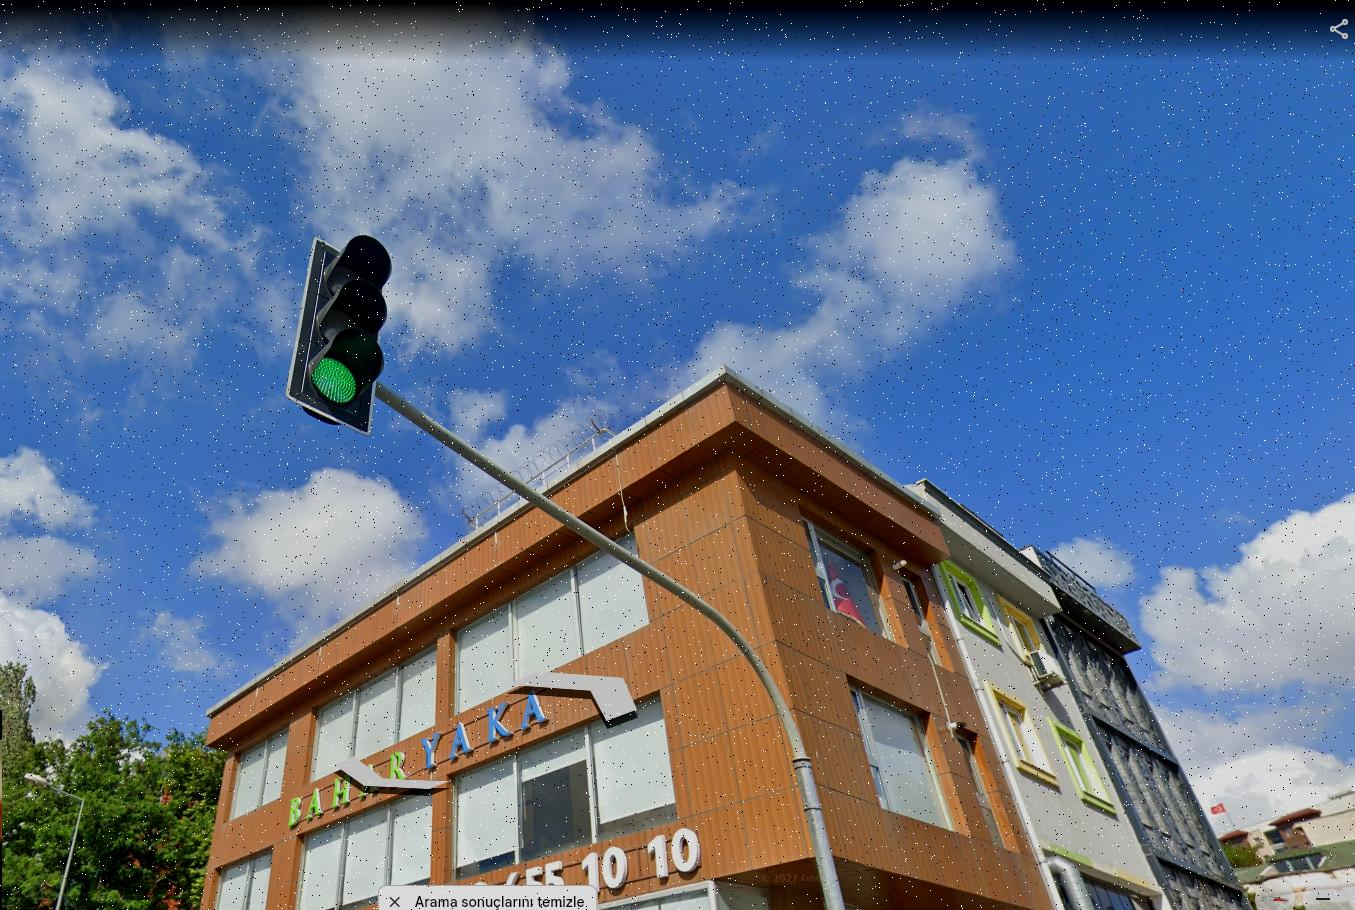greenlight: (306, 219, 378, 418)
